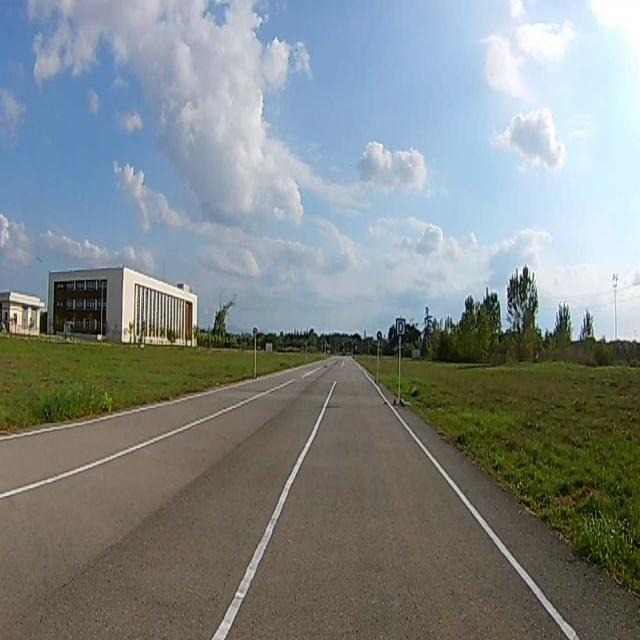durak: (396, 318, 406, 334)
